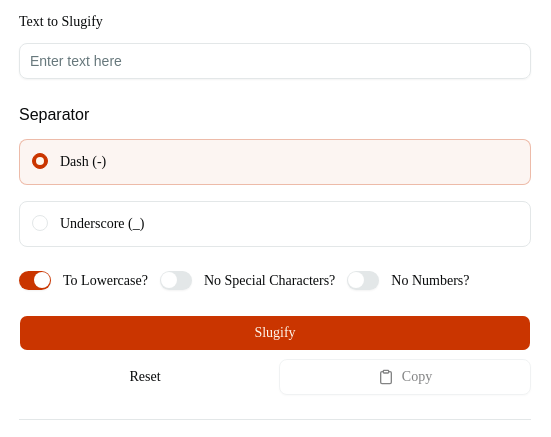
URLSlugGenerator › resets form with reset button
Type "Some text" into the field with placeholder "Enter text here" at (275, 61), box [19, 43, 531, 79]
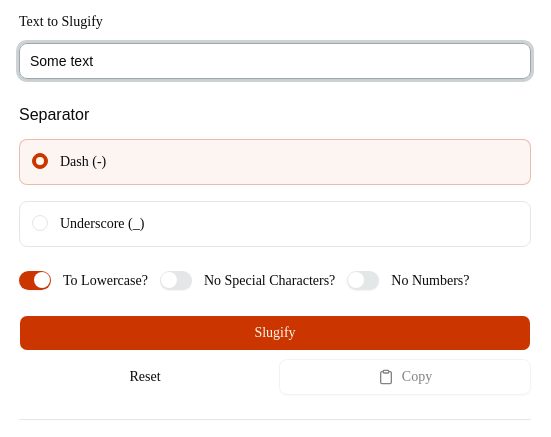
Click the button "Reset" at (145, 376), box [19, 358, 271, 394]
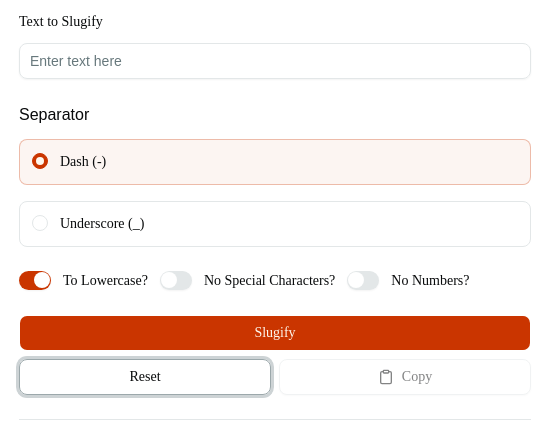
Expected: the field with placeholder "Enter text here" is empty, [19, 43, 531, 79]
